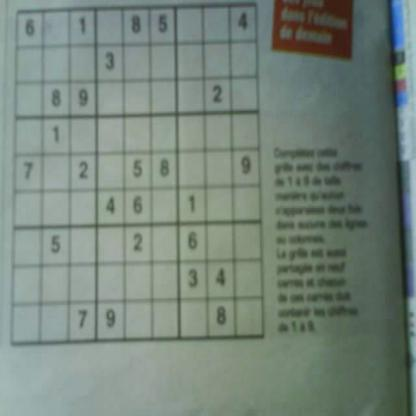sudoku: (8, 0, 269, 350)
